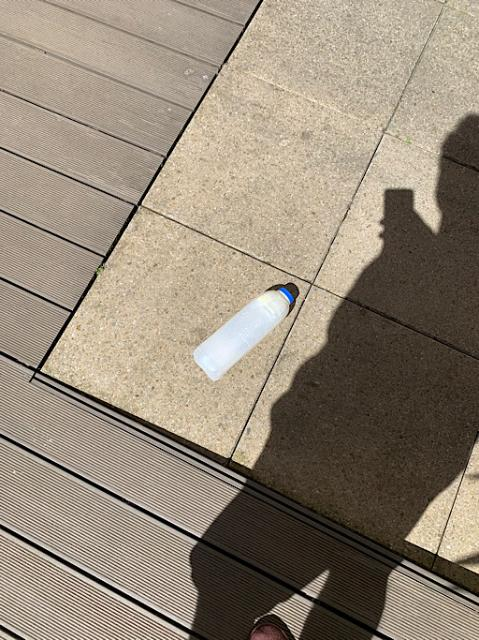plastic: (193, 282, 298, 379)
